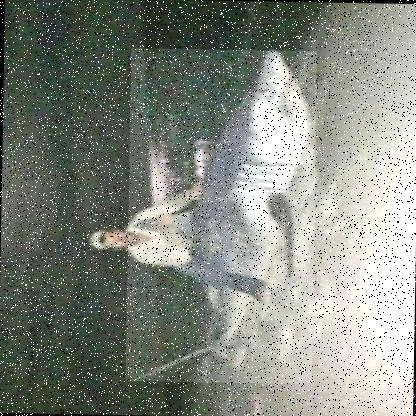mako-shark: (124, 47, 317, 384)
